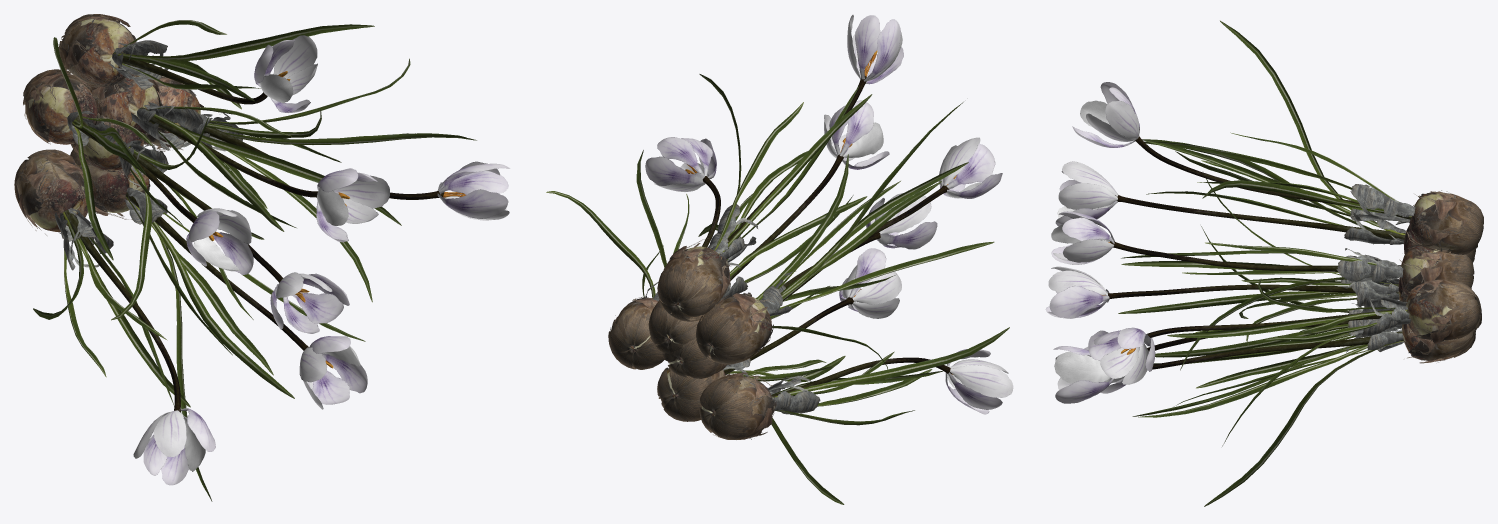
The picture shows the model from 3 angles, left to right: view 1: azimuth 30°, elevation 25°; view 2: azimuth 150°, elevation 25°; view 3: azimuth 270°, elevation 25°; orthographic projection. The views are drawn at different scales.
Parts seen in each view (by area): view 1: FL43Leaf7, FL43Petalu1, FL43Roots1, FL43Petal8, FL43Branch1, FL43Leaf2, FL43Leaf3, FL43Leaf5, FL43Petal9, FL43Leaf6, FL43Leaf8, FL43Leaf4; view 2: FL43Leaf7, FL43Petalu1, FL43Leaf8, FL43Leaf6, FL43Petal8, FL43Leaf2, FL43Branch1, FL43Leaf5, FL43Leaf3, FL43Leaf4, FL43Petal9, FL43Roots1; view 3: FL43Leaf7, FL43Branch1, FL43Petal8, FL43Petalu1, FL43Leaf2, FL43Leaf3, FL43Leaf8, FL43Roots1, FL43Leaf5, FL43Leaf6, FL43Petal9, FL43Leaf4.
Boxes of the visible parts, x1=… form: FL43Leaf7: x1=33, y1=24, x2=476, y2=501; FL43Petalu1: x1=143, y1=39, x2=509, y2=485; FL43Roots1: x1=28, y1=19, x2=200, y2=231; FL43Petal8: x1=133, y1=35, x2=509, y2=458; FL43Branch1: x1=63, y1=52, x2=443, y2=412; FL43Leaf2: x1=64, y1=20, x2=410, y2=377; FL43Leaf3: x1=54, y1=40, x2=243, y2=270; FL43Leaf5: x1=18, y1=18, x2=196, y2=233; FL43Petal9: x1=183, y1=74, x2=360, y2=471; FL43Leaf6: x1=18, y1=16, x2=209, y2=235; FL43Leaf8: x1=14, y1=14, x2=203, y2=230; FL43Leaf4: x1=59, y1=46, x2=213, y2=244; FL43Leaf7: x1=636, y1=74, x2=1009, y2=504; FL43Petalu1: x1=645, y1=15, x2=1002, y2=414; FL43Leaf8: x1=608, y1=243, x2=774, y2=439; FL43Leaf6: x1=611, y1=238, x2=775, y2=439; FL43Petal8: x1=654, y1=15, x2=1013, y2=397; FL43Leaf2: x1=546, y1=102, x2=914, y2=425; FL43Branch1: x1=702, y1=76, x2=951, y2=397; FL43Leaf5: x1=615, y1=249, x2=776, y2=432; FL43Leaf3: x1=645, y1=204, x2=820, y2=414; FL43Leaf4: x1=653, y1=232, x2=792, y2=410; FL43Petal9: x1=842, y1=32, x2=981, y2=388; FL43Roots1: x1=628, y1=246, x2=772, y2=429; FL43Leaf7: x1=1118, y1=20, x2=1411, y2=506; FL43Branch1: x1=1108, y1=136, x2=1411, y2=369; FL43Petal8: x1=1048, y1=100, x2=1148, y2=389; FL43Petalu1: x1=1045, y1=82, x2=1155, y2=403; FL43Leaf2: x1=1182, y1=132, x2=1406, y2=388; FL43Leaf3: x1=1336, y1=184, x2=1415, y2=352; FL43Leaf8: x1=1411, y1=190, x2=1483, y2=363; FL43Roots1: x1=1398, y1=192, x2=1460, y2=360; FL43Leaf5: x1=1400, y1=193, x2=1474, y2=360; FL43Leaf6: x1=1399, y1=191, x2=1480, y2=362; FL43Petal9: x1=1051, y1=100, x2=1124, y2=383; FL43Leaf4: x1=1365, y1=199, x2=1411, y2=351.
Size of the model in its own units: 0.2014 by 0.2132 by 0.1944.
13 materials, 13 textured.
